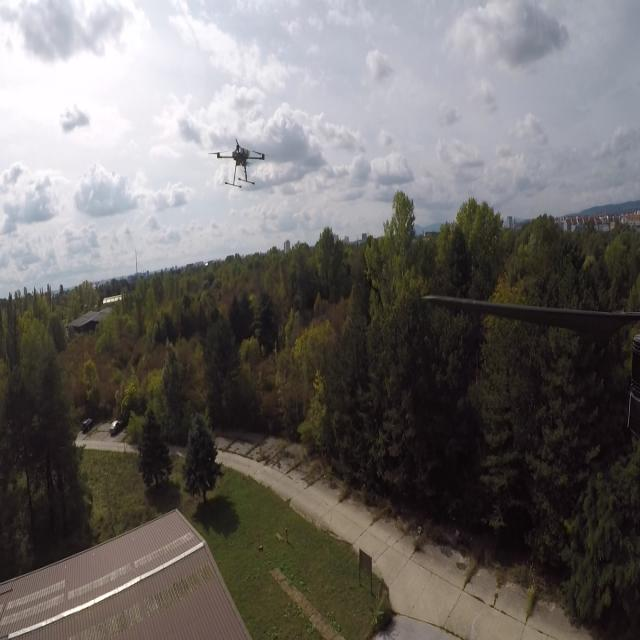UAV: (207, 131, 275, 197)
